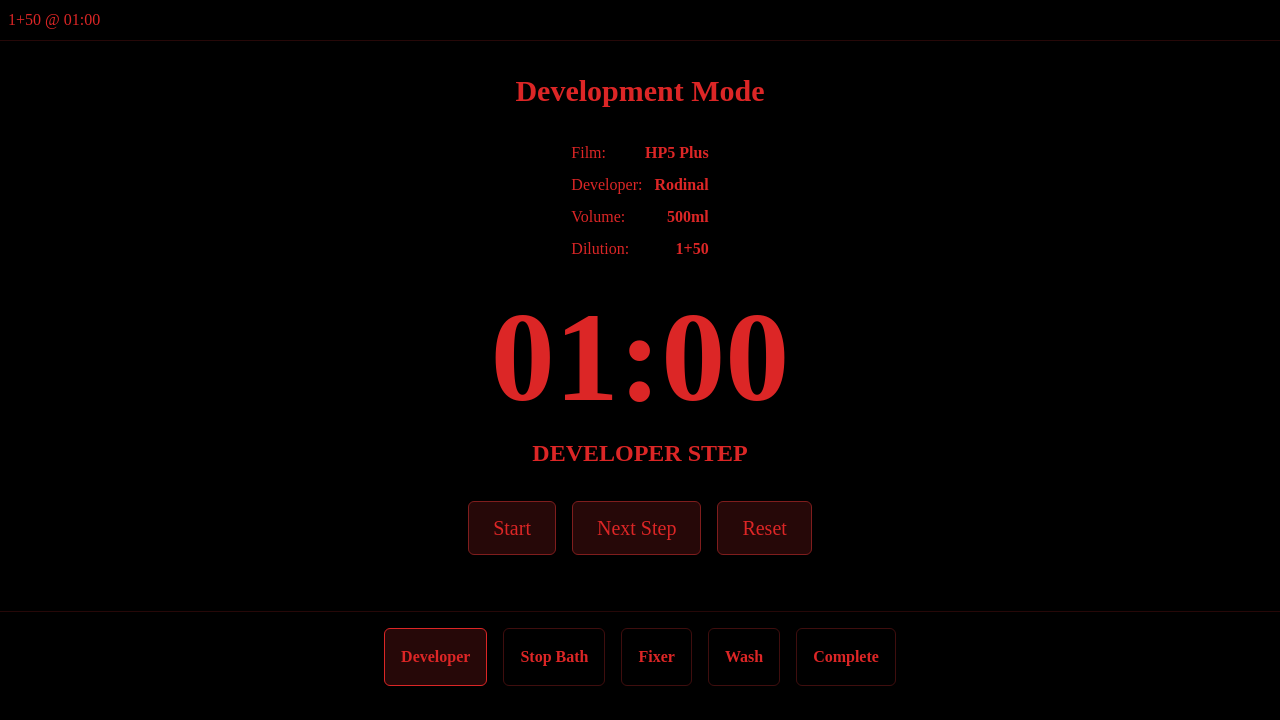
Test: DevelopmentMode › uses stopSeconds for stop bath duration
Click the button "Next Step": (637, 528) x1=572 y1=501 x2=701 y2=555
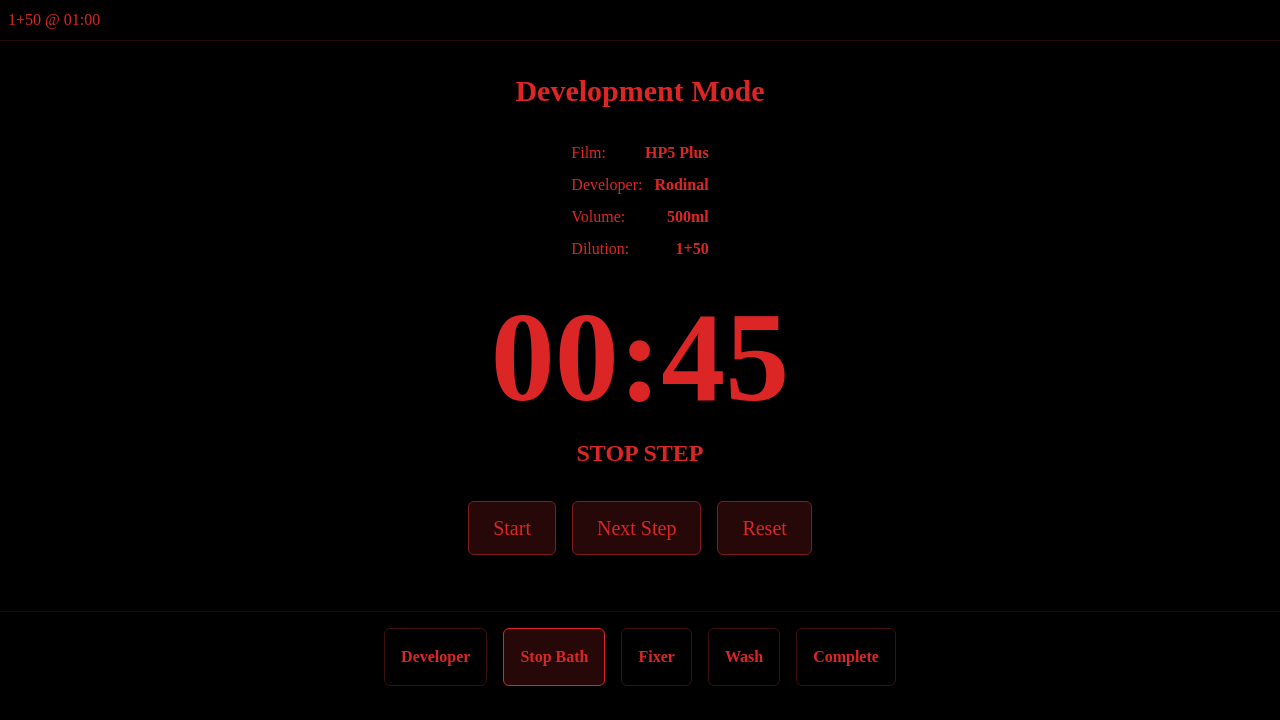
Expected: the text "00:45" is shown, x1=491 y1=286 x2=789 y2=428
